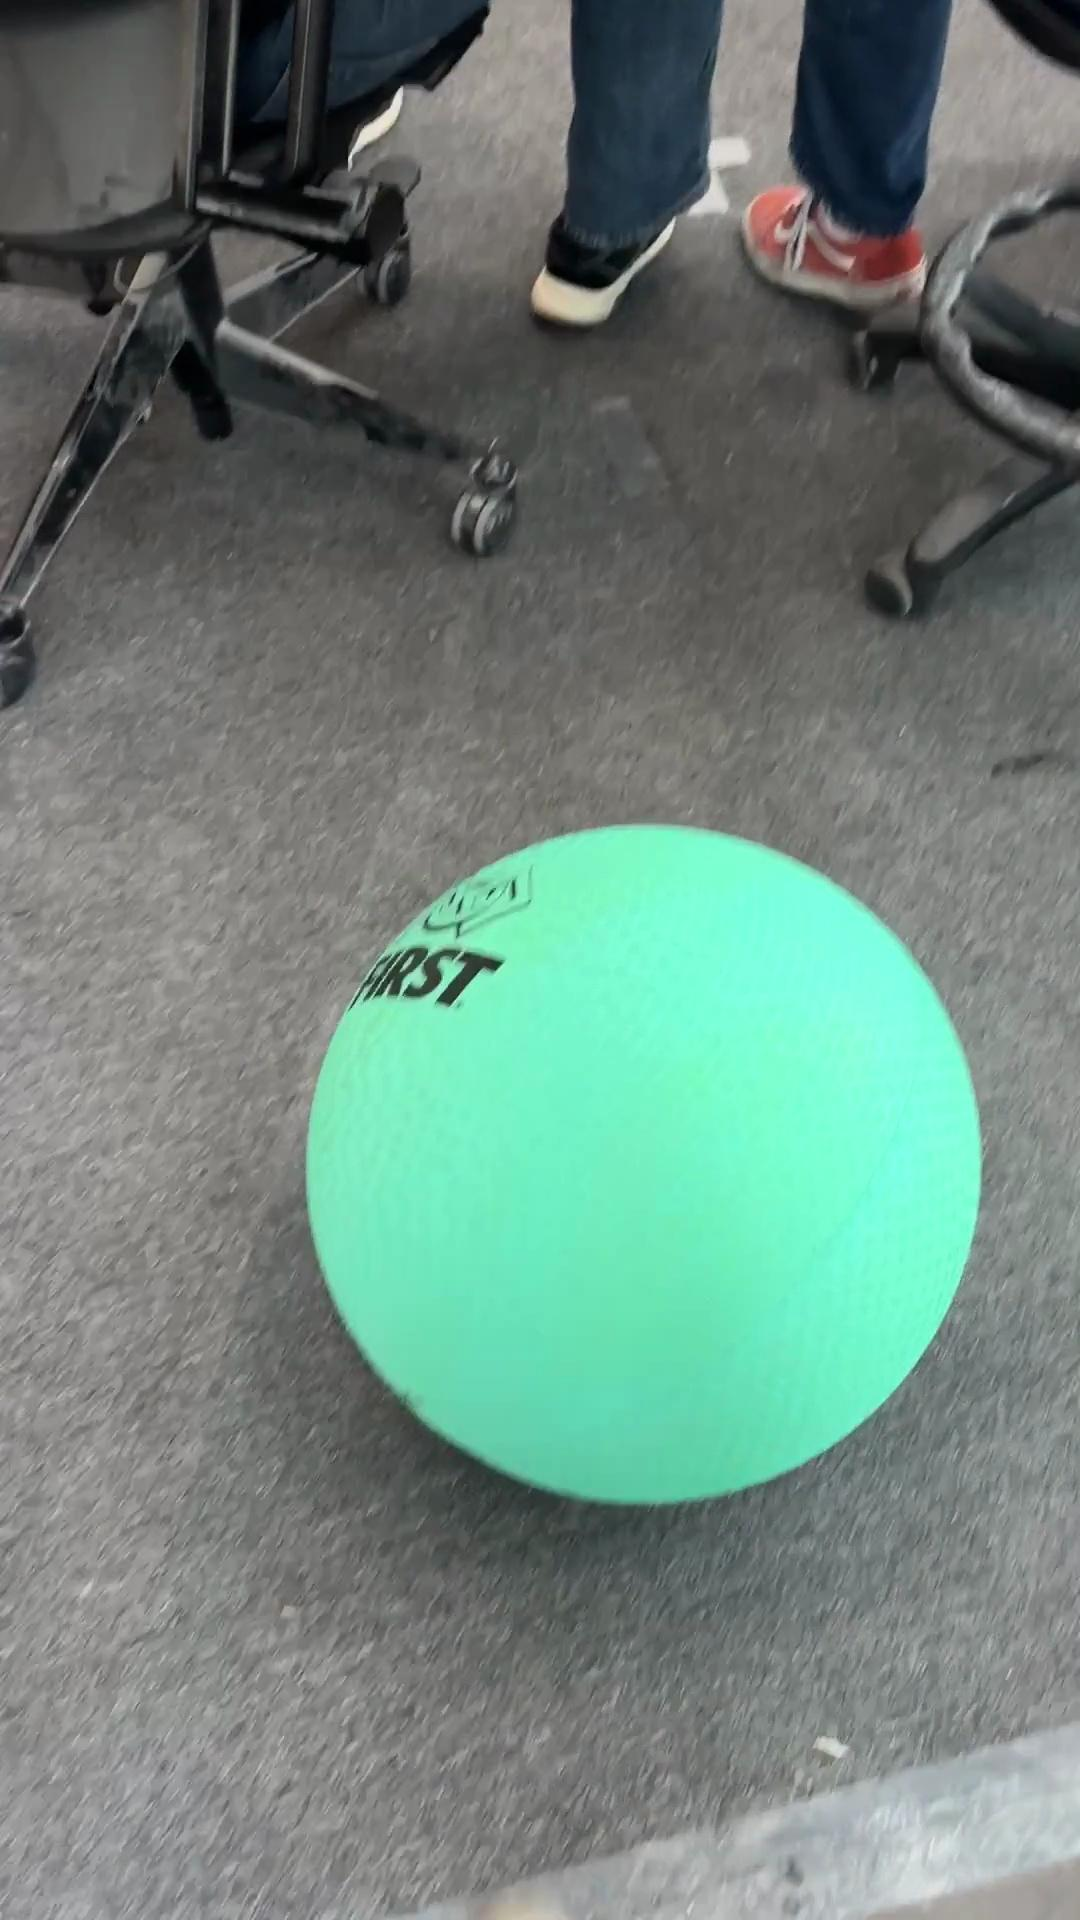ALGAE: (302, 818, 985, 1509)
